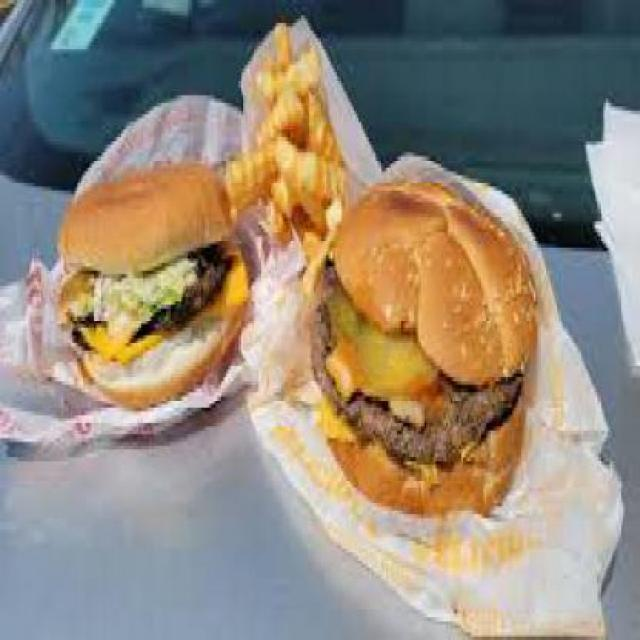french fries: (215, 15, 340, 259)
hamburger: (332, 175, 533, 534), (57, 168, 254, 400)
